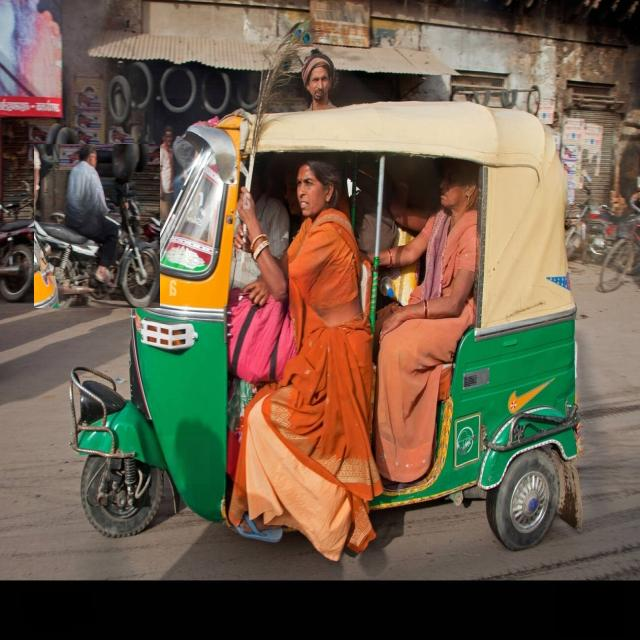autorickshaw: (70, 102, 581, 559)
motorcycle: (34, 145, 160, 308)
